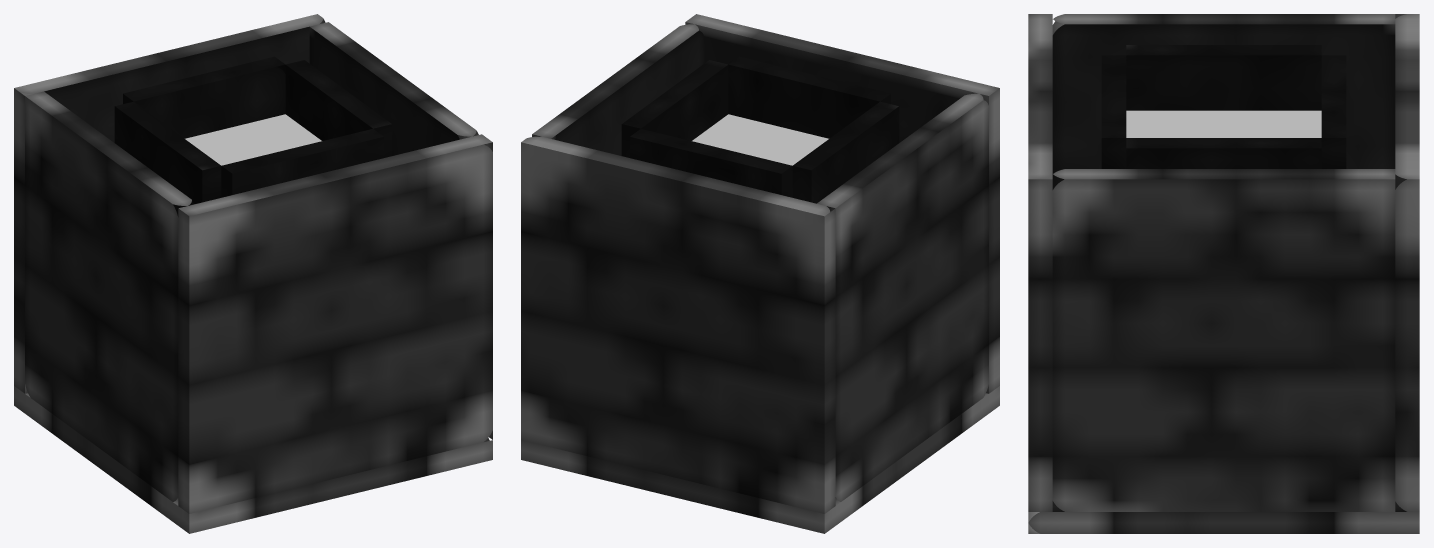
Rendered from blastfurnace.obj.
3 views of the same model, side by side, from view 1: azimuth 30°, elevation 25°; view 2: azimuth 150°, elevation 25°; view 3: azimuth 270°, elevation 25° (orthographic). The views are drawn at different scales.
Visible parts, largest first — view 1: cube; view 2: cube; view 3: cube.
Part boxes in pixels (left/top/right/bottom): cube: left=14, top=14, right=492, bottom=533; cube: left=521, top=14, right=999, bottom=533; cube: left=1028, top=14, right=1419, bottom=533.
Size of the model in its own units: 16 by 16 by 16.
